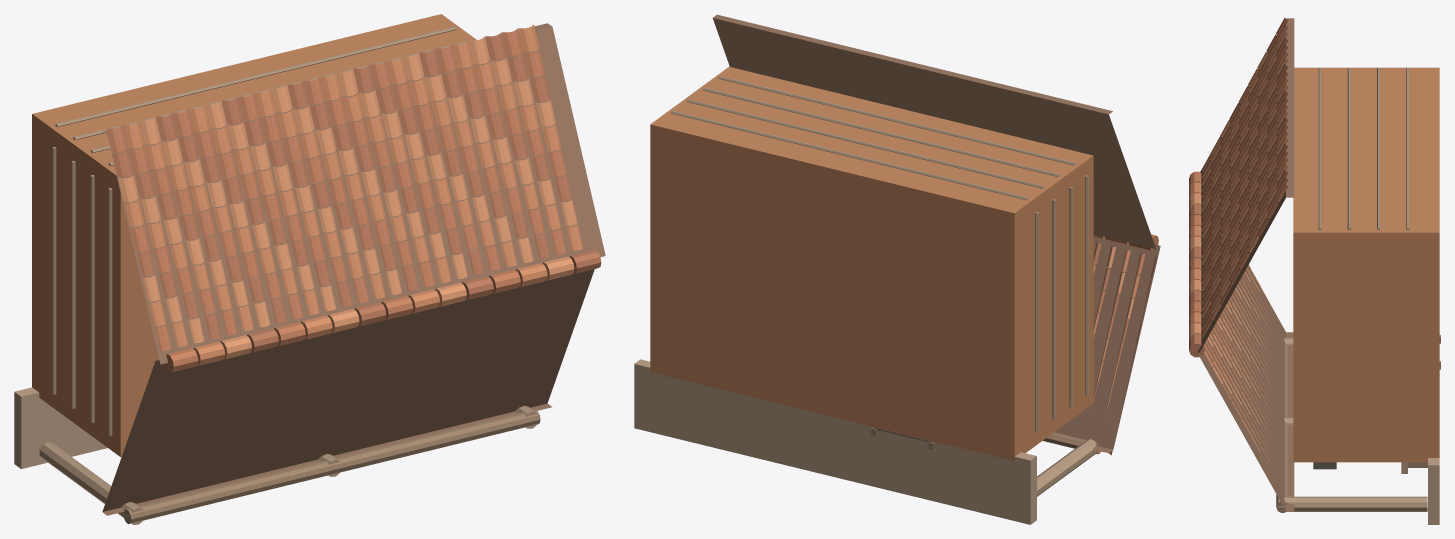
File: casa_taipa_referencia.glb
3 views of the same model, side by side, from view 1: azimuth 30°, elevation 25°; view 2: azimuth 150°, elevation 25°; view 3: azimuth 270°, elevation 25° (orthographic). The views are drawn at different scales.
Parts seen in each view (by area): view 1: roof understructure, earthen walls, roof understructure_1, porch cross beam, porch earthen platform, rough porch timber post, taipa horizontal lath_4, side wall lath_1, side wall lath, side wall lath_2, side wall lath_3, taipa horizontal lath_5; view 2: earthen walls, porch earthen platform, roof understructure_1, roof understructure, taipa horizontal lath_7, taipa horizontal lath_5, taipa horizontal lath_6, taipa horizontal lath_4, rough porch timber post, side wall lath_3, side wall lath, side wall lath_1 (+1 smaller); view 3: earthen walls, roof understructure, roof understructure_1, rough porch timber post_2, taipa horizontal lath_6, porch earthen platform, taipa horizontal lath_4, taipa horizontal lath_5, taipa horizontal lath_7, porch cross beam.
Boxes of the visible parts, bbox=[...] form: roof understructure: bbox=[102, 269, 594, 515]; earthen walls: bbox=[32, 14, 476, 456]; roof understructure_1: bbox=[102, 23, 605, 364]; porch cross beam: bbox=[124, 409, 540, 523]; porch earthen platform: bbox=[14, 387, 107, 468]; rough porch timber post: bbox=[39, 442, 143, 524]; taipa horizontal lath_4: bbox=[55, 26, 456, 127]; side wall lath_1: bbox=[71, 161, 75, 408]; side wall lath: bbox=[52, 147, 56, 394]; side wall lath_2: bbox=[90, 175, 94, 422]; side wall lath_3: bbox=[108, 188, 112, 435]; taipa horizontal lath_5: bbox=[73, 39, 473, 139]; earthen walls: bbox=[650, 66, 1093, 460]; porch earthen platform: bbox=[634, 359, 1036, 524]; roof understructure_1: bbox=[712, 14, 1155, 248]; roof understructure: bbox=[1047, 237, 1160, 452]; taipa horizontal lath_7: bbox=[718, 76, 1075, 165]; taipa horizontal lath_5: bbox=[686, 99, 1043, 188]; taipa horizontal lath_6: bbox=[702, 87, 1059, 176]; taipa horizontal lath_4: bbox=[671, 110, 1027, 200]; rough porch timber post: bbox=[1037, 439, 1097, 496]; side wall lath_3: bbox=[1085, 175, 1088, 395]; side wall lath: bbox=[1035, 212, 1038, 432]; side wall lath_1: bbox=[1052, 199, 1055, 419]; earthen walls: bbox=[1293, 67, 1439, 462]; roof understructure: bbox=[1198, 265, 1294, 511]; roof understructure_1: bbox=[1198, 18, 1294, 353]; rough porch timber post_2: bbox=[1278, 496, 1427, 511]; taipa horizontal lath_6: bbox=[1347, 67, 1351, 230]; porch earthen platform: bbox=[1428, 458, 1439, 524]; taipa horizontal lath_4: bbox=[1406, 67, 1409, 230]; taipa horizontal lath_5: bbox=[1377, 67, 1380, 230]; taipa horizontal lath_7: bbox=[1318, 67, 1321, 230]; porch cross beam: bbox=[1276, 337, 1287, 512].
Size of the model in its own units: 8.7 by 7.51 by 5.16.
